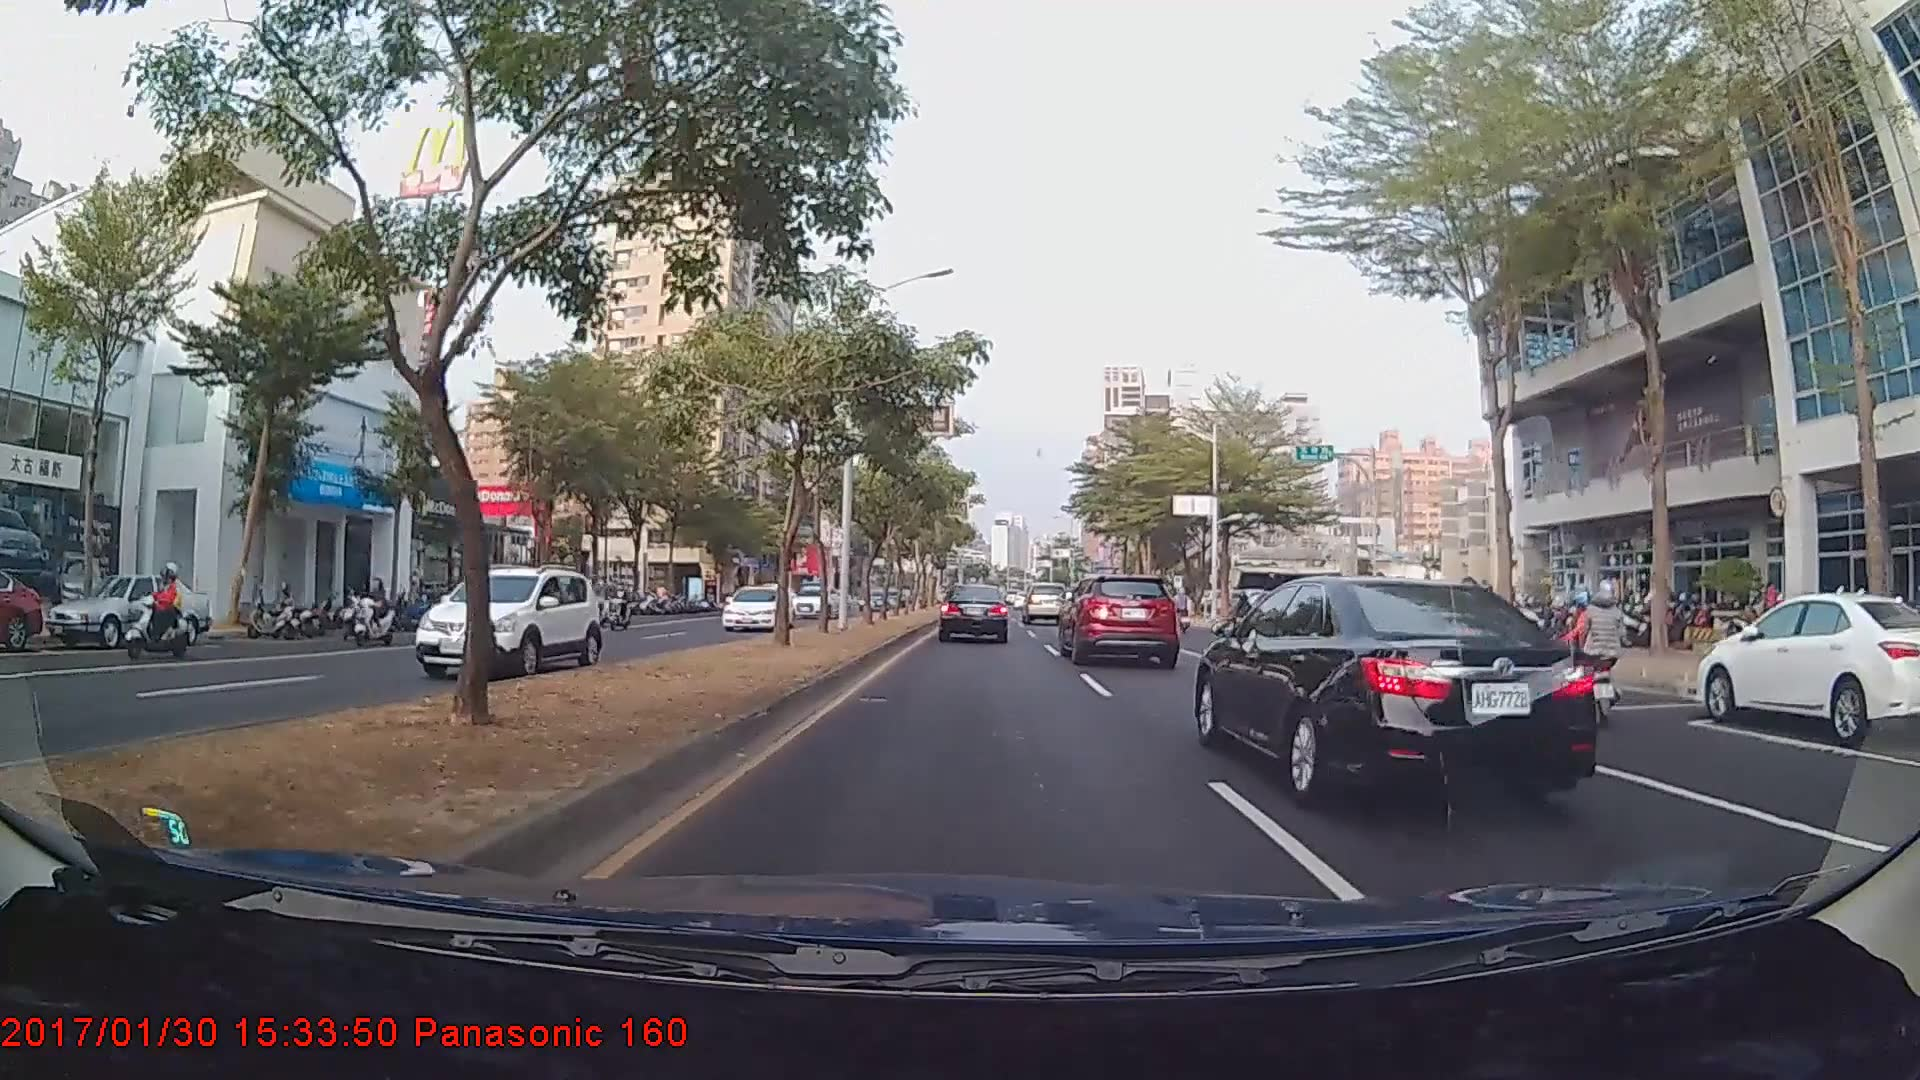rider: (1518, 584, 1602, 720), (111, 562, 196, 661), (349, 570, 404, 650)
vehicle: (1188, 557, 1585, 809), (1694, 591, 1920, 743), (407, 563, 607, 682), (43, 573, 211, 650), (1061, 573, 1179, 666), (938, 583, 1009, 644), (0, 565, 43, 650), (721, 586, 793, 633), (784, 587, 844, 620), (1023, 581, 1064, 624)
